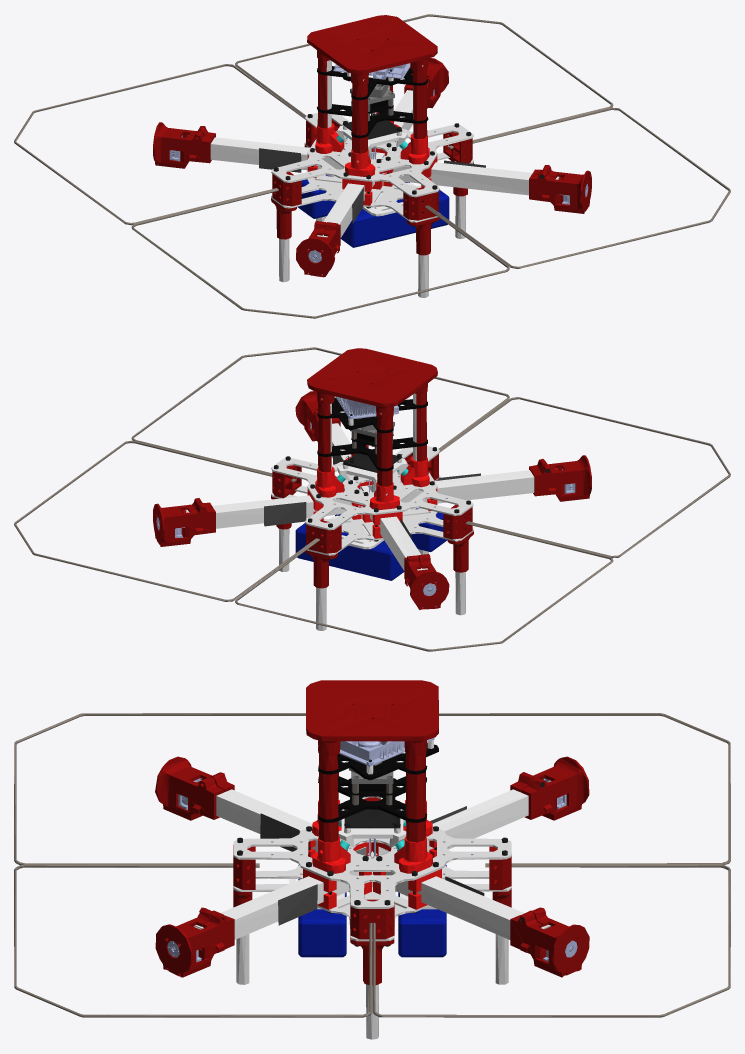
The model's file is main_body_beetle_omni_w_guard.dae.
The picture shows the model from 3 angles, top to bottom: view 1: azimuth 30°, elevation 25°; view 2: azimuth 150°, elevation 25°; view 3: azimuth 270°, elevation 25°; orthographic projection. The views are drawn at different scales.
Parts seen in each view (by area): view 1: Shape_IndexedFaceSet; view 2: Shape_IndexedFaceSet; view 3: Shape_IndexedFaceSet.
Part boxes in pixels (x1,y1,x2,y2): Shape_IndexedFaceSet: (14,14,730,318); Shape_IndexedFaceSet: (14,347,730,651); Shape_IndexedFaceSet: (14,680,730,1039).
Bounding box in the file's own units: 0.6455 × 0.6455 × 0.272.
